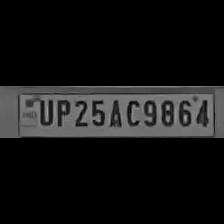2: (71, 97, 87, 128)
4: (193, 96, 211, 128)
5: (88, 97, 106, 128)
6: (176, 96, 192, 128)
8: (158, 96, 174, 128)
9: (140, 97, 158, 128)
A: (106, 97, 122, 128)
C: (123, 97, 141, 127)
P: (53, 97, 71, 127)
U: (35, 98, 53, 127)
